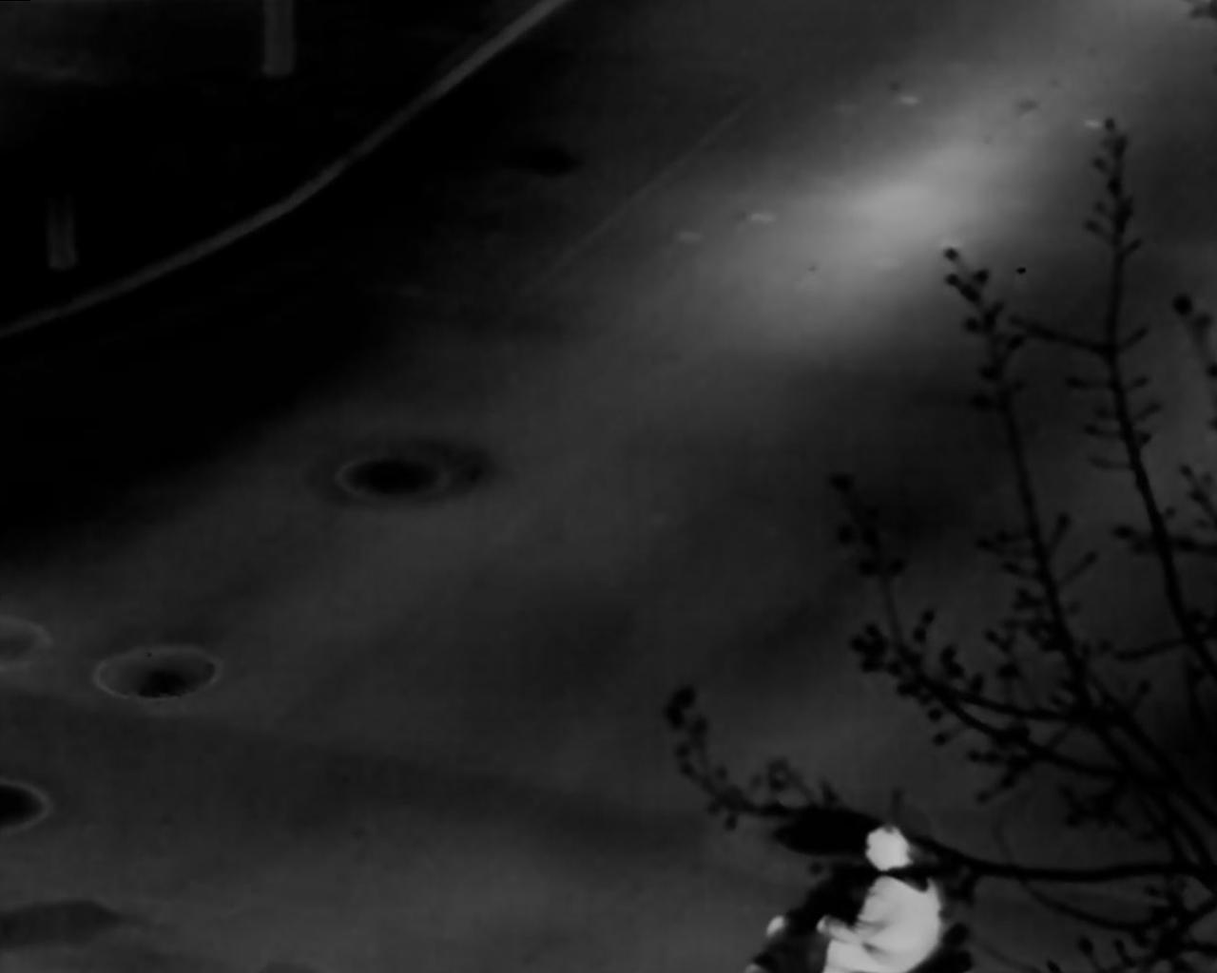person: (814, 825, 945, 973)
